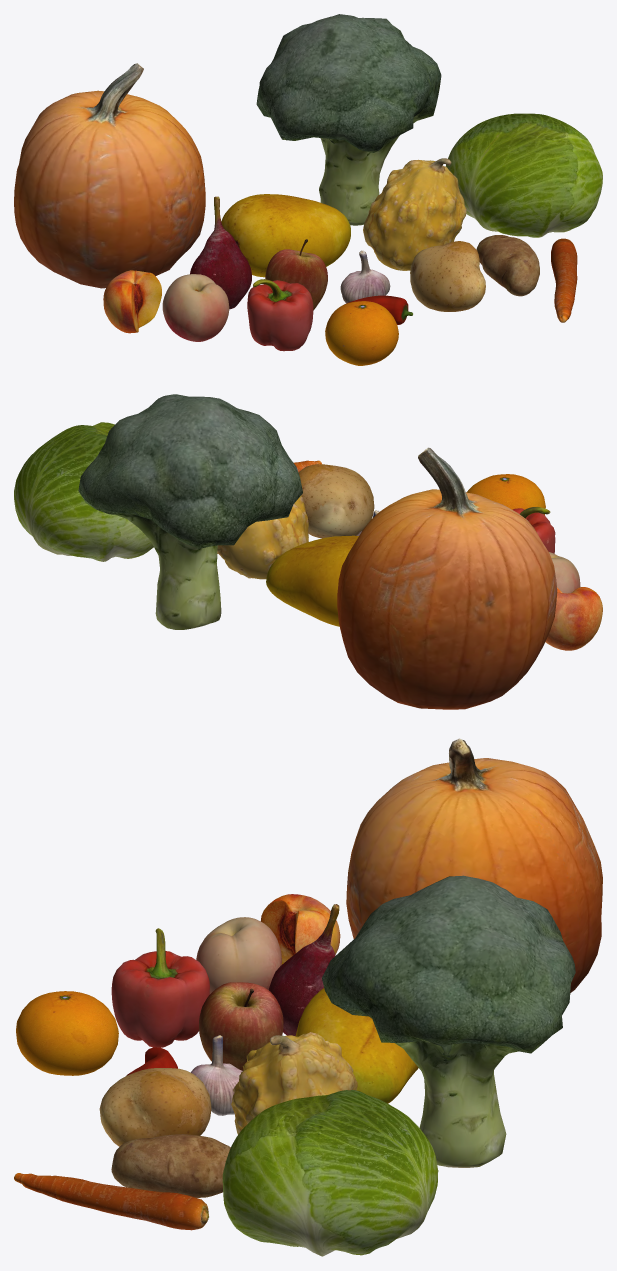
File: veg_pack.glb
The picture shows the model from 3 angles, top to bottom: view 1: azimuth 30°, elevation 25°; view 2: azimuth 150°, elevation 25°; view 3: azimuth 270°, elevation 25°; orthographic projection. The views are drawn at different scales.
Parts seen in each view (by area): view 1: Pumpkin, Broccoli, Cabbage, Decorative Gourd, Mango, Potato, Red Bell Pepper, Mandarin Orange, Peach, Red Pear, Cut Yellow Peach, Russet Potato (+4 smaller); view 2: Pumpkin, Broccoli, Cabbage, Mango, Potato, Decorative Gourd, Cut Yellow Peach, Mandarin Orange, Red Bell Pepper, Peach; view 3: Broccoli, Pumpkin, Cabbage, Red Bell Pepper, Decorative Gourd, Mandarin Orange, Potato, Russet Potato, Mango, Carrot, Apple, Peach (+3 smaller).
Boxes of the visible parts, box(x1,y1,x2,y2) form: Pumpkin: box(14, 63, 205, 288); Broccoli: box(256, 14, 441, 225); Cabbage: box(445, 113, 602, 237); Decorative Gourd: box(363, 158, 466, 270); Mango: box(221, 194, 350, 277); Potato: box(410, 241, 485, 311); Red Bell Pepper: box(247, 279, 313, 351); Mandarin Orange: box(325, 301, 398, 365); Peach: box(162, 274, 229, 341); Red Pear: box(190, 196, 251, 309); Cut Yellow Peach: box(103, 270, 161, 333); Russet Potato: box(476, 235, 539, 296); Pumpkin: box(337, 447, 557, 709); Broccoli: box(78, 394, 302, 629); Cabbage: box(14, 422, 153, 561); Mango: box(266, 535, 358, 626); Potato: box(298, 464, 374, 538); Decorative Gourd: box(217, 495, 308, 579); Cut Yellow Peach: box(545, 587, 602, 650); Mandarin Orange: box(466, 474, 545, 514); Red Bell Pepper: box(512, 507, 555, 553); Peach: box(549, 552, 580, 593); Broccoli: box(322, 875, 575, 1167); Pumpkin: box(346, 738, 602, 992); Cabbage: box(222, 1090, 438, 1256); Red Bell Pepper: box(111, 928, 209, 1047); Decorative Gourd: box(231, 1032, 357, 1134); Mandarin Orange: box(16, 991, 118, 1075); Potato: box(99, 1068, 211, 1146); Russet Potato: box(111, 1134, 230, 1197); Mango: box(295, 988, 418, 1103); Carrot: box(14, 1173, 208, 1230); Apple: box(199, 982, 283, 1070); Peach: box(196, 917, 281, 994).
Size of the model in its own units: 64.38 by 24.94 by 47.76.
16 materials, 16 textured.
